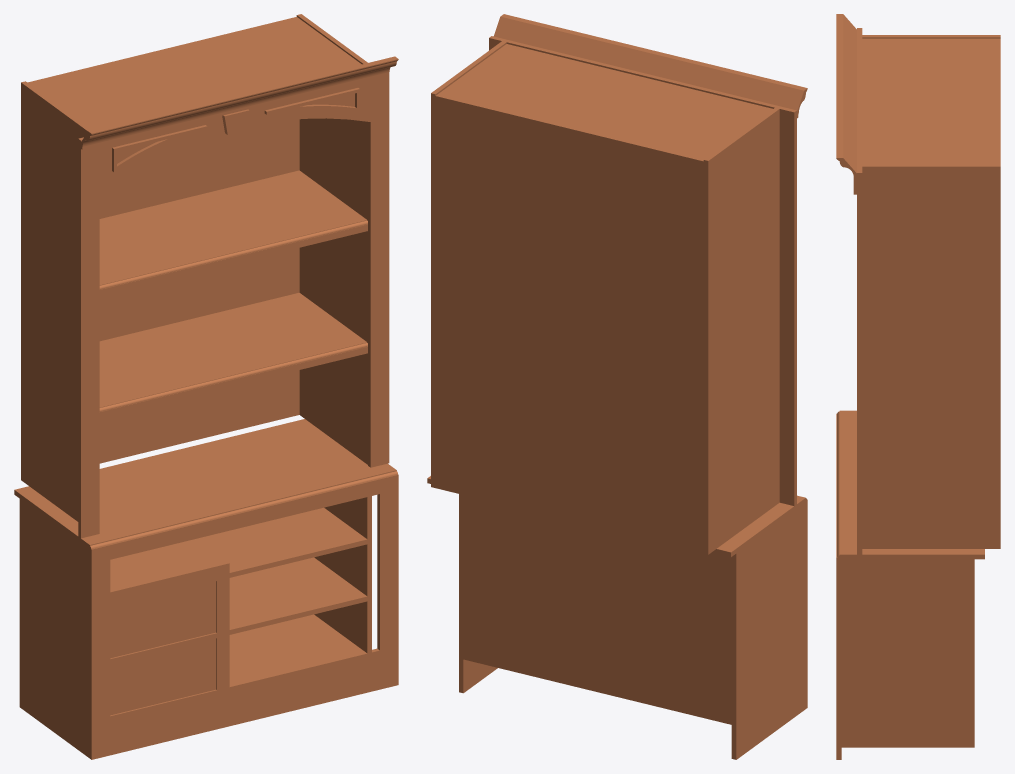
Rendered from cabinet_01.dae.
3 views of the same model, side by side, from view 1: azimuth 30°, elevation 25°; view 2: azimuth 150°, elevation 25°; view 3: azimuth 270°, elevation 25° (orthographic). The views are drawn at different scales.
Parts seen in each view (by area): view 1: instance_22; view 2: instance_22; view 3: instance_22.
Boxes of the visible parts, x1,y1,x2,y2 form: instance_22: (14,14,398,759); instance_22: (427,14,807,759); instance_22: (836,14,1000,759).
Bounding box in the file's own units: 1.26 × 0.6032 × 2.44.
